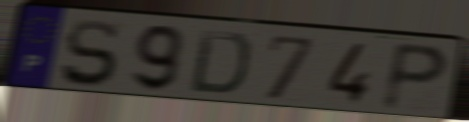4: (325, 42, 374, 107)
7: (266, 32, 318, 103)
9: (128, 23, 187, 94)
D: (186, 27, 254, 98)
P: (377, 40, 453, 114)
S: (58, 18, 122, 90)
